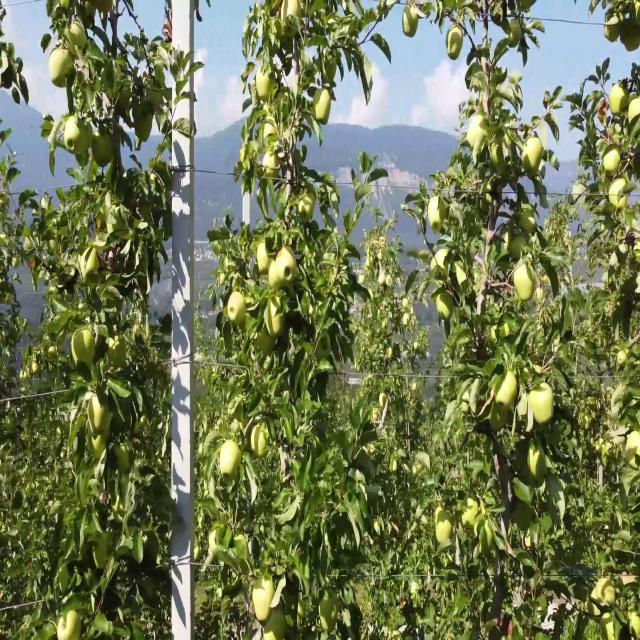apple: (528, 383, 556, 427), (252, 575, 276, 622), (520, 135, 543, 180), (52, 49, 76, 91), (72, 327, 97, 366), (220, 440, 243, 482), (528, 447, 550, 489), (496, 369, 519, 405), (516, 263, 536, 304), (276, 248, 297, 286), (92, 398, 113, 436), (92, 135, 115, 169), (252, 419, 271, 460), (268, 298, 287, 338), (428, 199, 449, 235), (68, 21, 88, 57), (264, 611, 287, 639), (60, 611, 82, 639), (612, 85, 630, 119), (228, 291, 245, 327), (256, 241, 273, 277), (256, 71, 276, 101), (612, 177, 629, 212), (256, 327, 276, 356), (492, 405, 512, 434), (108, 341, 128, 370), (448, 28, 464, 64), (84, 248, 100, 284), (600, 575, 616, 610), (436, 291, 455, 320), (504, 21, 523, 50), (316, 92, 332, 126), (404, 7, 420, 41), (300, 191, 316, 224), (464, 497, 479, 532), (136, 113, 154, 142), (64, 120, 78, 156), (604, 149, 621, 178), (520, 206, 537, 235), (516, 504, 533, 533), (80, 120, 94, 155), (436, 519, 454, 546), (268, 263, 283, 295), (92, 433, 108, 462), (324, 56, 339, 85), (624, 28, 640, 55), (116, 447, 132, 473), (432, 199, 450, 222), (600, 618, 619, 639), (629, 433, 640, 468), (264, 156, 280, 180), (512, 234, 525, 263), (320, 611, 337, 631), (628, 99, 640, 126), (604, 23, 620, 43), (232, 533, 248, 553), (468, 120, 479, 149), (600, 99, 611, 124), (500, 319, 512, 341), (248, 291, 258, 315), (84, 7, 96, 27), (428, 220, 444, 235), (632, 611, 640, 639), (480, 199, 491, 219), (48, 241, 60, 256), (400, 298, 412, 313), (4, 291, 15, 306), (320, 618, 331, 633), (596, 440, 604, 460), (0, 191, 8, 210), (96, 220, 107, 233), (12, 255, 20, 270), (48, 625, 56, 638), (240, 149, 246, 164), (636, 7, 640, 27), (388, 348, 393, 363), (300, 604, 305, 619), (196, 547, 201, 560)
